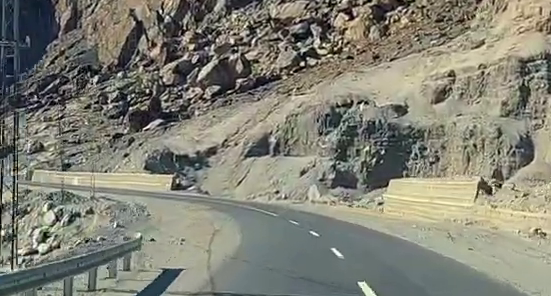right: (144, 175, 433, 281)
